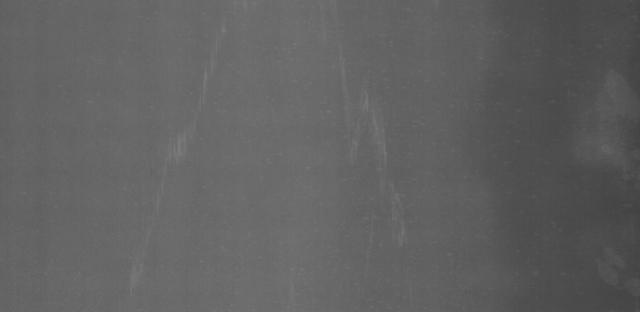silk_spot: (326, 52, 408, 237), (152, 20, 234, 162)
